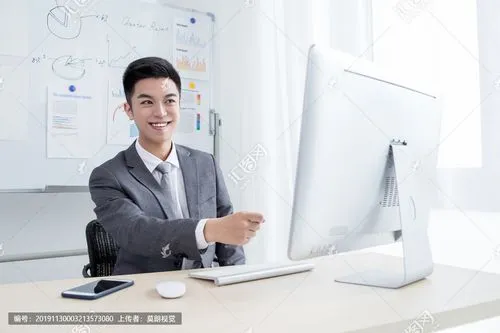withoutmask: (116, 51, 192, 149)
